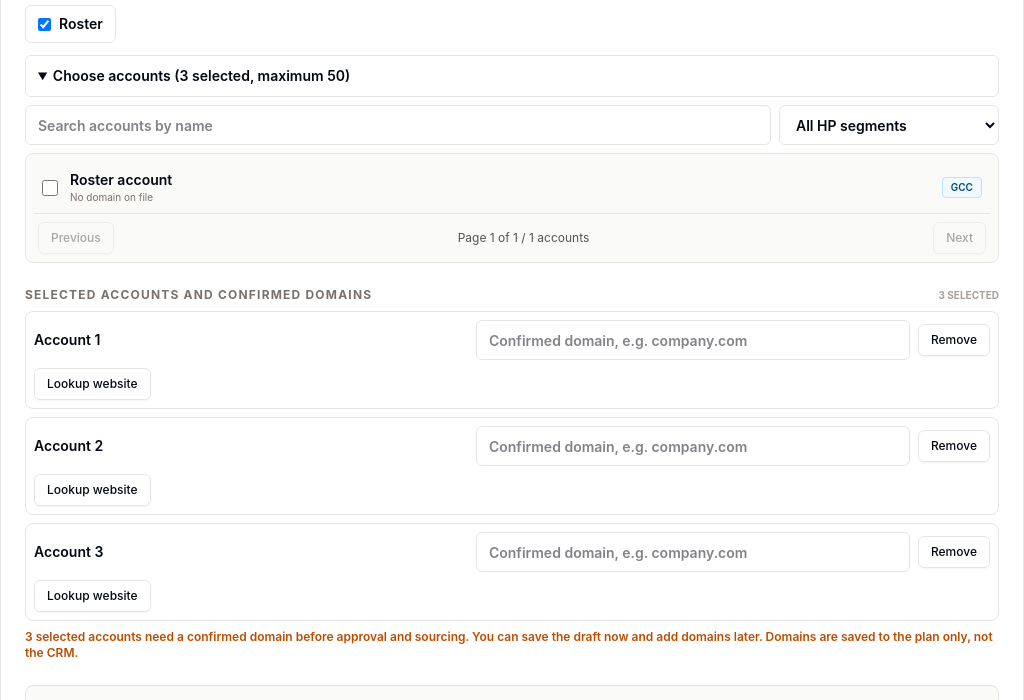
requires fresh cost acknowledgement for each research attempt and does not attach results on errors
(page scrolled)
What coordinates should you click on to do the following:
click the button "Lookup website" below "Account 1"
I would click on:
 (92, 384)
Its box is [34,368,150,400].
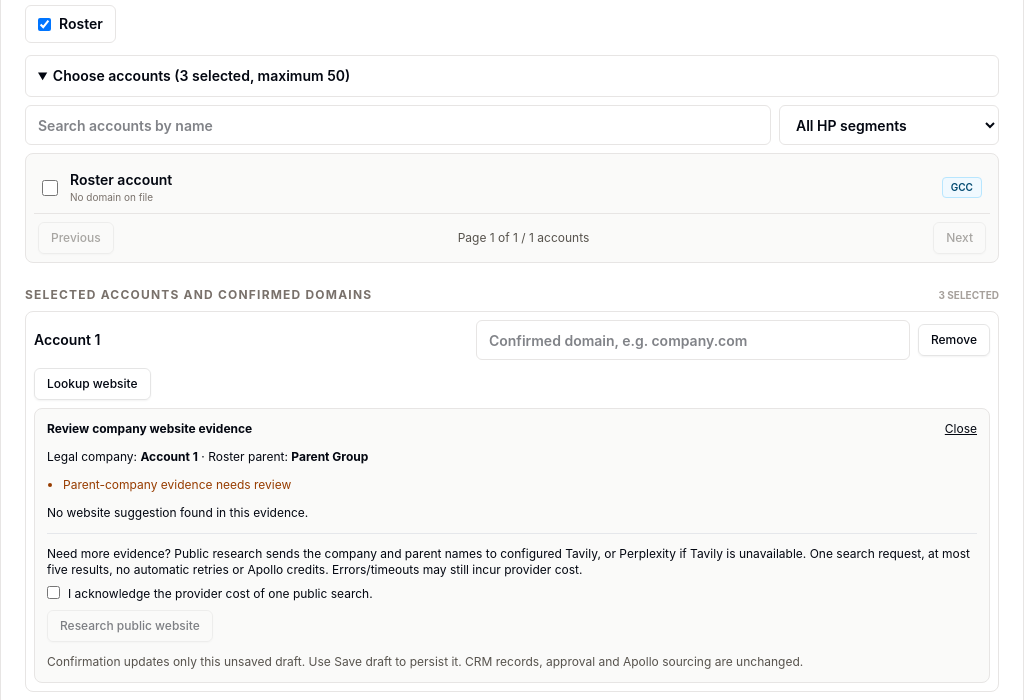
Result: the button "Research public website" is disabled at [47,610,213,642]
What coordinates should you click on to do the following:
click the checkbox labelled "I acknowledge the provider cost of one public search."
I would click on:
 (54, 592)
Its box is [47,586,60,599].
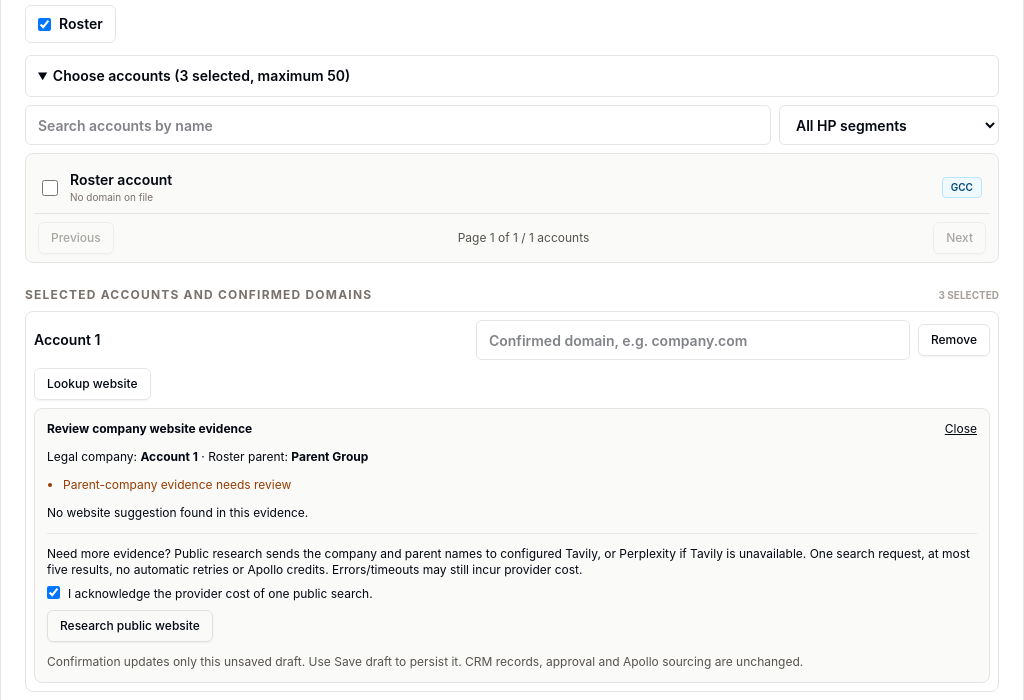
What coordinates should you click on to do the following:
click the button "Research public website"
I would click on:
 (130, 626)
Its box is [47,610,213,642].
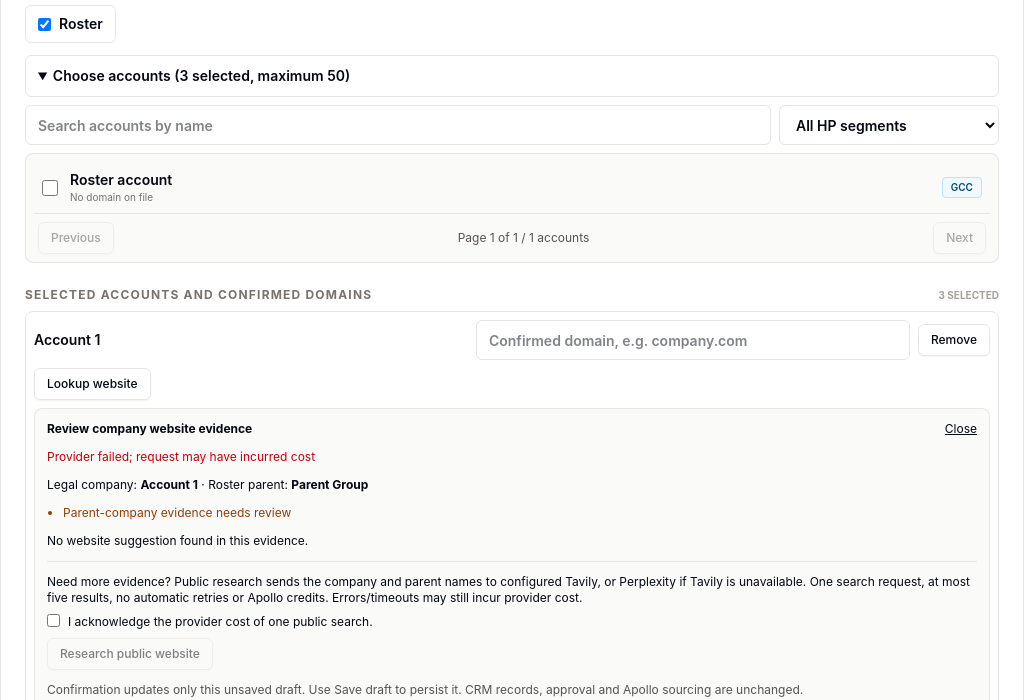
Expected: the field named "Confirmed domain for Account 1" is empty, [476,320,910,360]
Result: the message "Provider failed; request may have incurred cost" is shown at [47,449,315,464]
Result: the button "Research public website" is disabled at [47,638,213,670]
